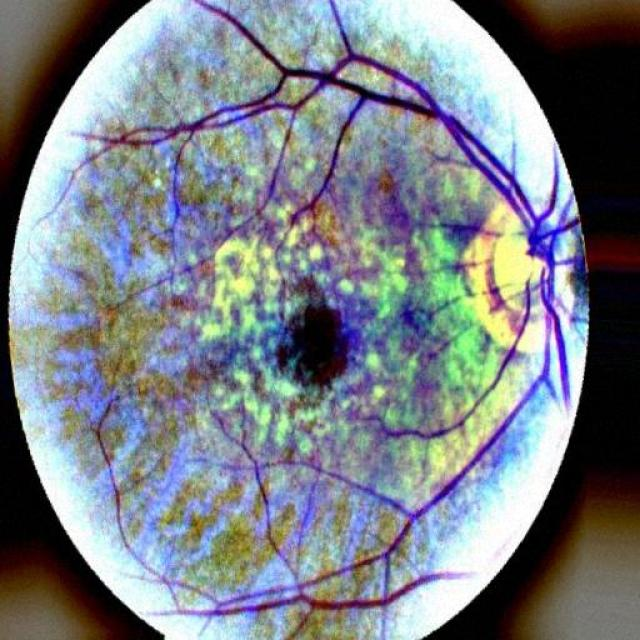Macula: (270, 293, 367, 391)
Nerves: (211, 298, 564, 619), (99, 14, 538, 252), (353, 300, 534, 441)
Optic Disk: (472, 196, 582, 351)
